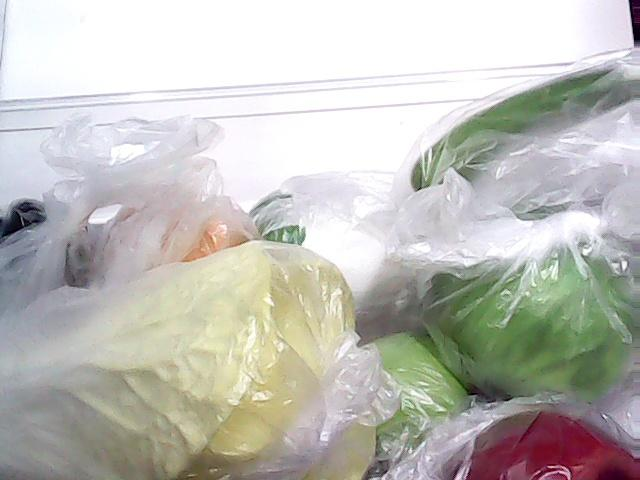apple: (436, 399, 640, 480), (362, 329, 462, 447)
cabbage: (428, 195, 640, 419)
grape: (0, 166, 102, 278)
lemon: (94, 177, 266, 283)
napa cabbage: (0, 234, 366, 480)
pepper: (408, 38, 640, 196)
radish: (248, 190, 417, 310)
